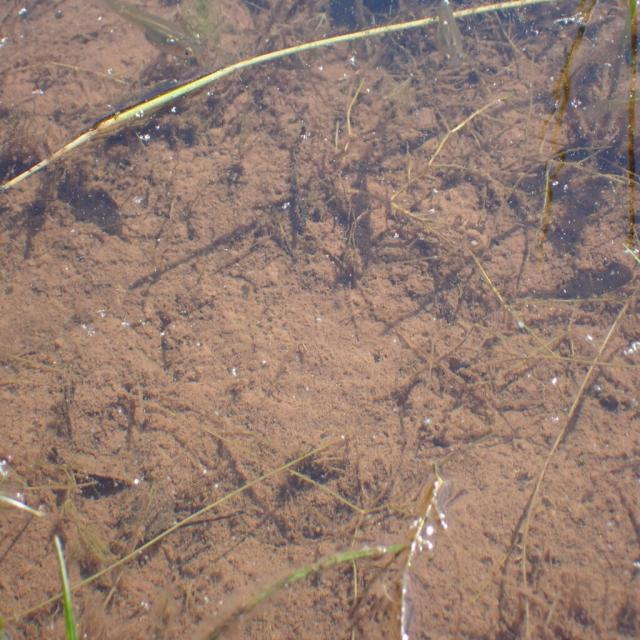Sivrisinek Baligi: (81, 0, 204, 56)
